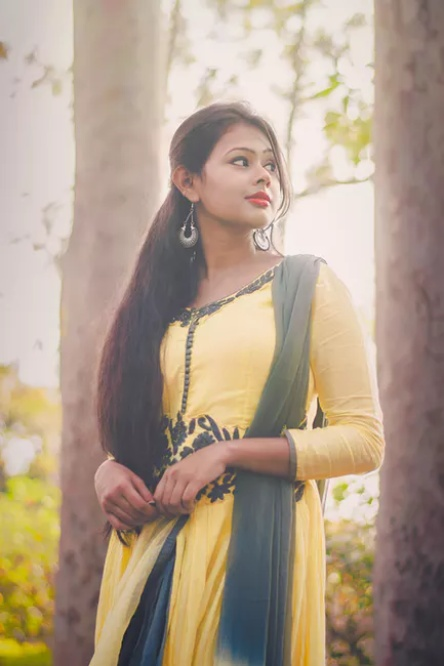face: (203, 125, 276, 227)
